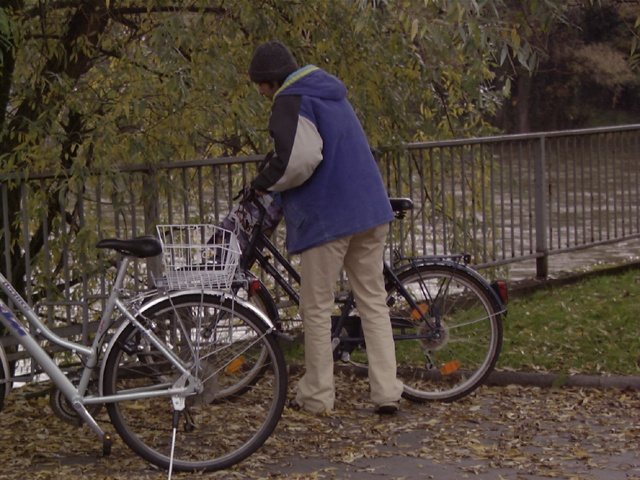person: (247, 38, 401, 414)
